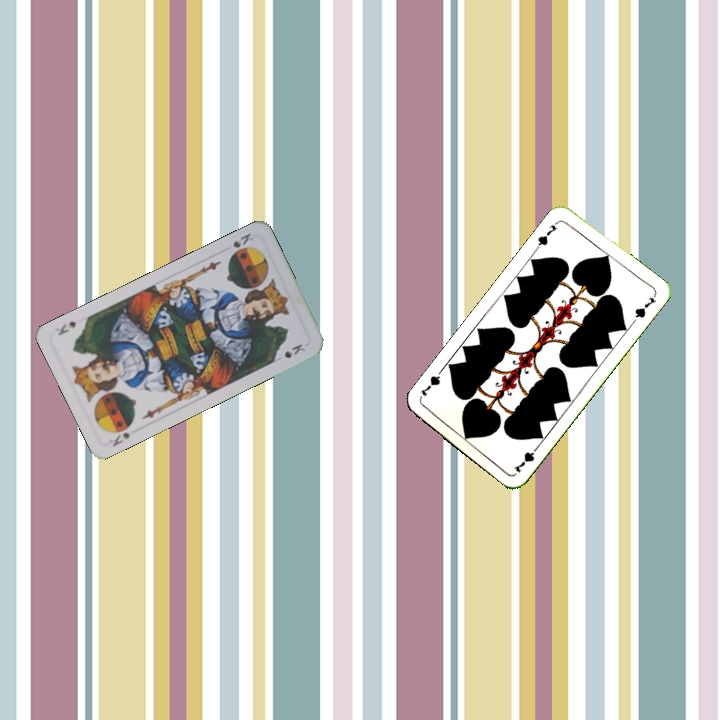G7: (509, 441, 542, 476), (532, 217, 561, 252)
SK: (103, 428, 134, 449), (229, 229, 256, 251)
